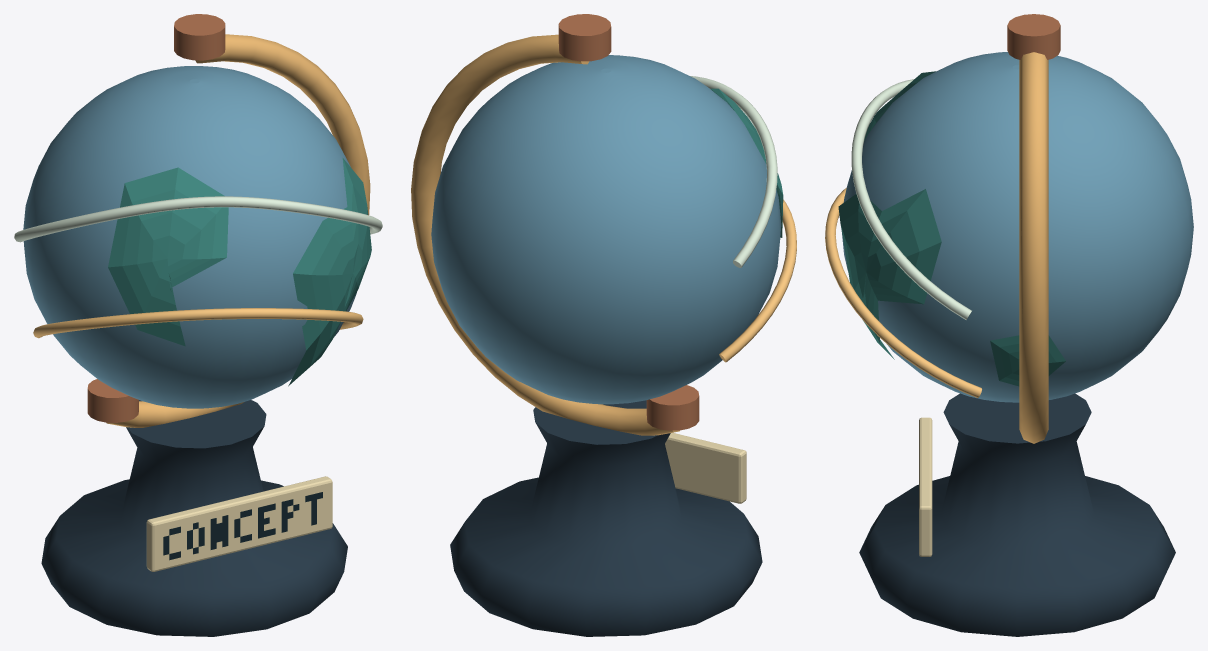
The picture shows the model from 3 angles, left to right: view 1: azimuth 30°, elevation 25°; view 2: azimuth 150°, elevation 25°; view 3: azimuth 270°, elevation 25°; orthographic projection. The views are drawn at different scales.
Parts seen in each view (by area): view 1: PR075 enamel and hardware; view 2: PR075 enamel and hardware; view 3: PR075 enamel and hardware.
Part boxes in pixels (x1=…): PR075 enamel and hardware: x1=14, y1=14, x2=382, y2=636; PR075 enamel and hardware: x1=411, y1=14, x2=796, y2=636; PR075 enamel and hardware: x1=825, y1=14, x2=1193, y2=636.
Size of the model in its own units: 0.8203 by 1.25 by 0.75.
